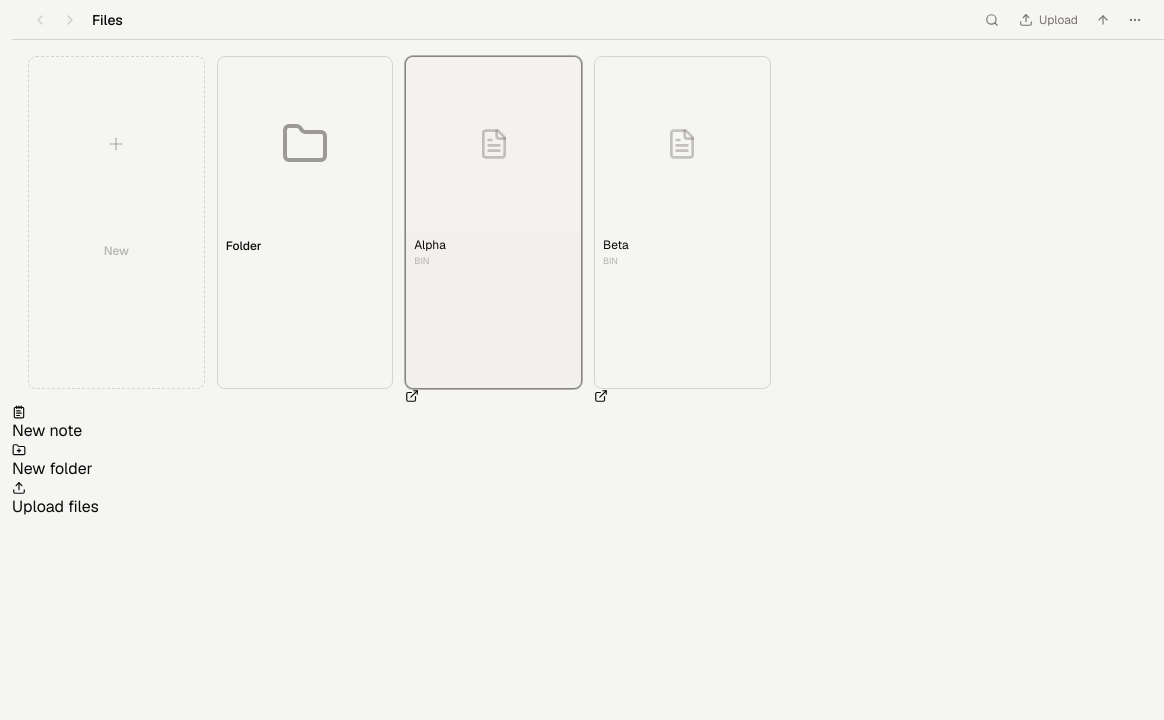
Test: FilesGrid selection › reports a folder change so a selection can never span folders
Click the text "Folder".
click(244, 246)  # box [226, 238, 262, 254]
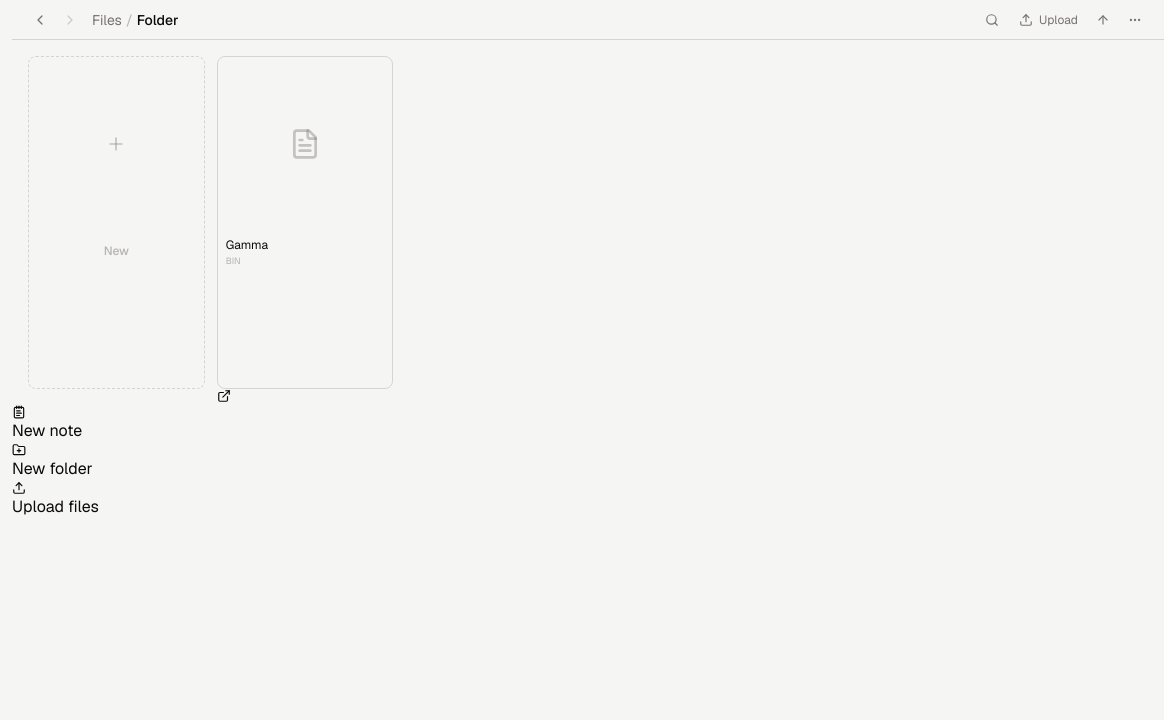
expect the text "Gamma" is shown: met, box [226, 237, 268, 253]
